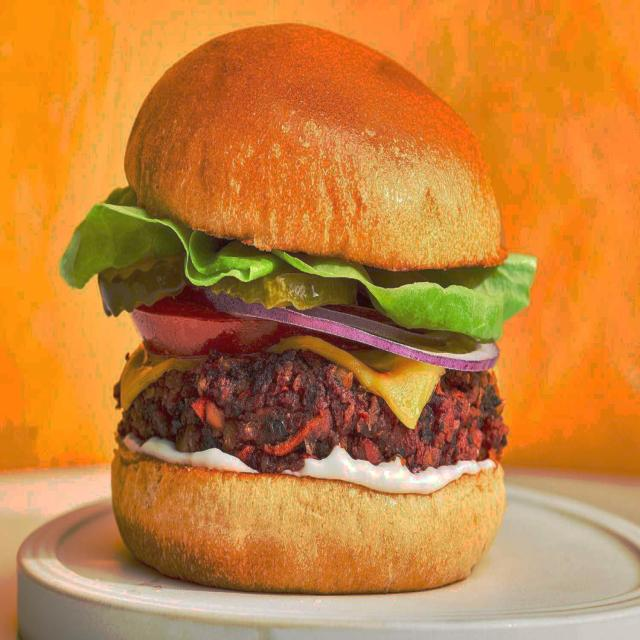burger: (62, 24, 540, 566)
